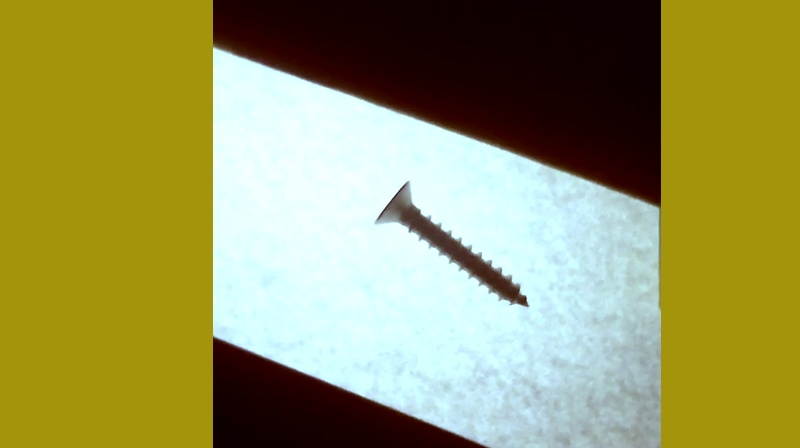S001: (371, 174, 535, 310)
